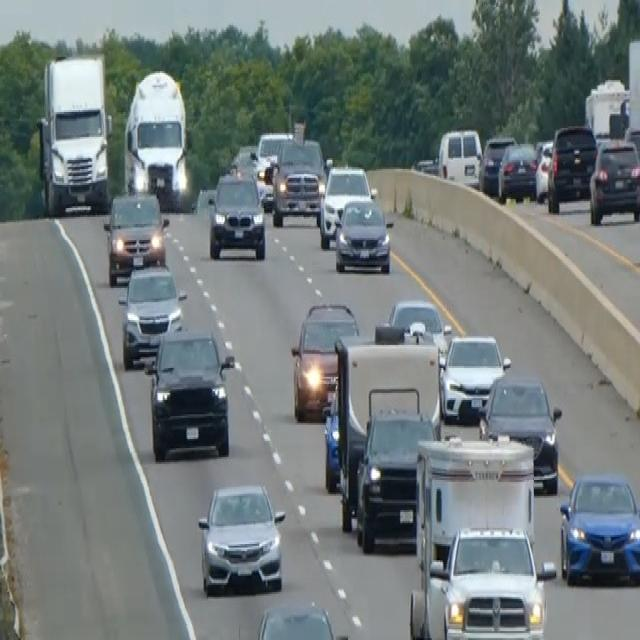car: (354, 393, 438, 553), (143, 324, 235, 461), (478, 370, 562, 492), (197, 480, 285, 596), (558, 469, 639, 587), (290, 298, 359, 419), (117, 260, 186, 368), (439, 331, 510, 423), (102, 188, 169, 284), (206, 169, 266, 259), (375, 297, 452, 364), (333, 194, 392, 274), (271, 138, 324, 225), (318, 162, 372, 247), (546, 122, 597, 212), (588, 137, 639, 224), (254, 599, 350, 638), (251, 130, 293, 206), (437, 126, 482, 187), (497, 140, 538, 202), (479, 134, 516, 196), (320, 384, 341, 492), (534, 138, 553, 202)
jeep: (408, 432, 556, 638)
lorry: (35, 52, 112, 215)
truck: (122, 68, 191, 210)
